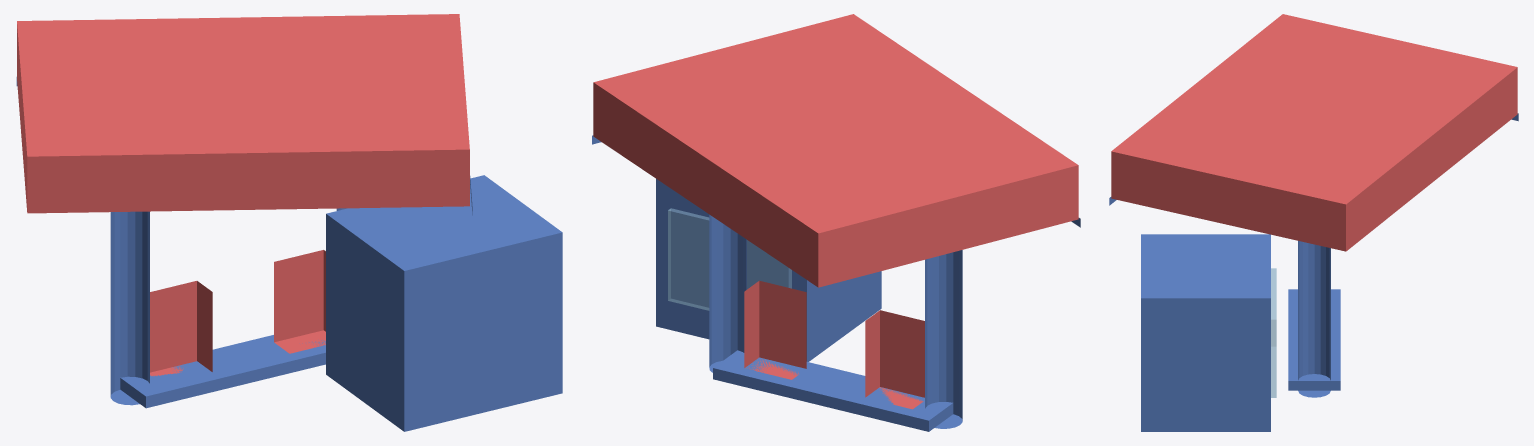
3 renders of one model, left to right at view 1: azimuth 30°, elevation 25°; view 2: azimuth 150°, elevation 25°; view 3: azimuth 270°, elevation 25°, orthographic. The views are drawn at different scales.
Parts seen in each view (by area): view 1: 238285653_HP_RedBlueFascia, 238285653_HP_BlueSteel; view 2: 238285653_HP_RedBlueFascia, 238285653_HP_BlueSteel, 238285653_HP_GlassKiosk; view 3: 238285653_HP_RedBlueFascia, 238285653_HP_BlueSteel, 238285653_HP_GlassKiosk.
Boxes of the visible parts, x1,y1,x2,y2 form: 238285653_HP_RedBlueFascia: (17,14,469,376); 238285653_HP_BlueSteel: (16,77,562,431); 238285653_HP_RedBlueFascia: (593,14,1078,409); 238285653_HP_BlueSteel: (592,135,1080,431); 238285653_HP_GlassKiosk: (668,208,791,310); 238285653_HP_RedBlueFascia: (1111,14,1517,251); 238285653_HP_BlueSteel: (1109,113,1518,431); 238285653_HP_GlassKiosk: (1271,268,1276,397).
Bounding box in the file's own units: 10.49 × 6 × 9.47.
